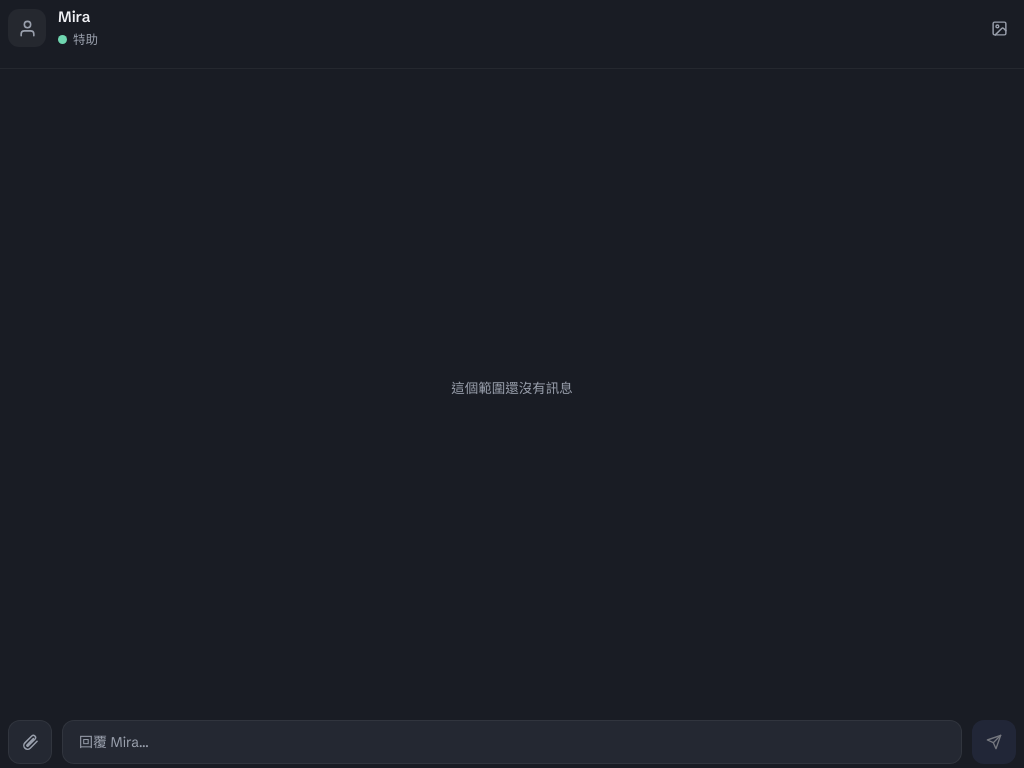
Test case: ChatArea gallery toggle (M2-3) › opens and closes the gallery panel from the header icon
This screenshot has width=1024, height=768.
Click the button with class "chat__gallery-toggle" at (999, 28), box 982,11 -> 1016,45
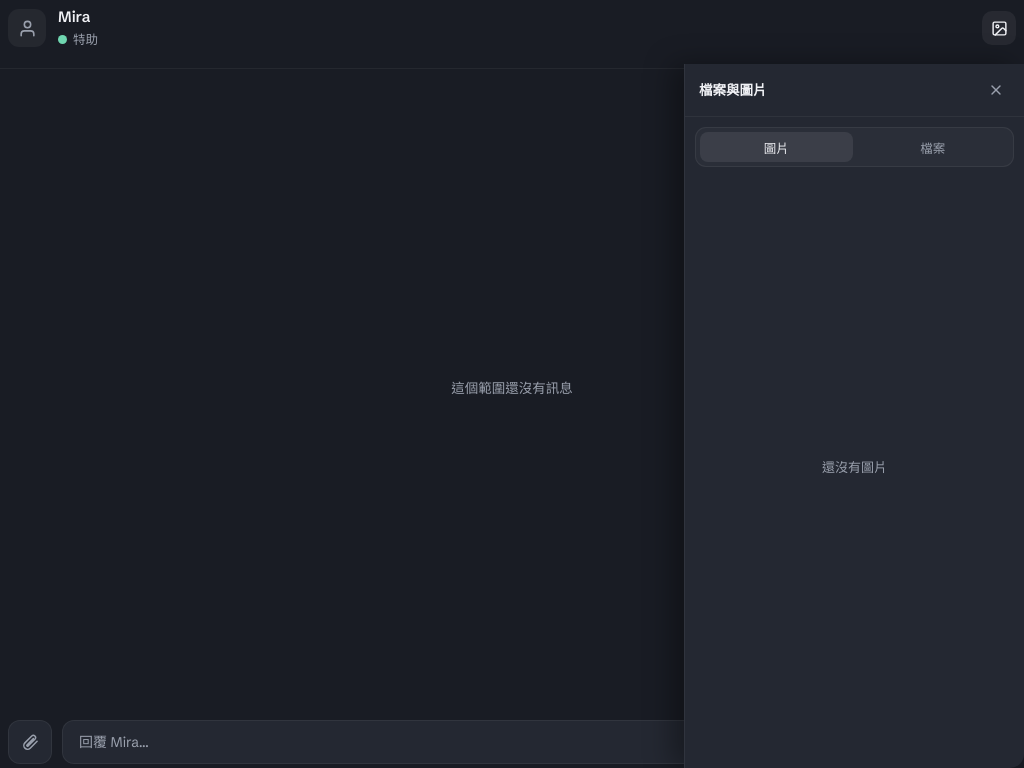
Expected: the dialog is shown, 684,64 -> 1023,767
Click the button with class "chat__gallery-toggle" at (999, 28), box 982,11 -> 1016,45
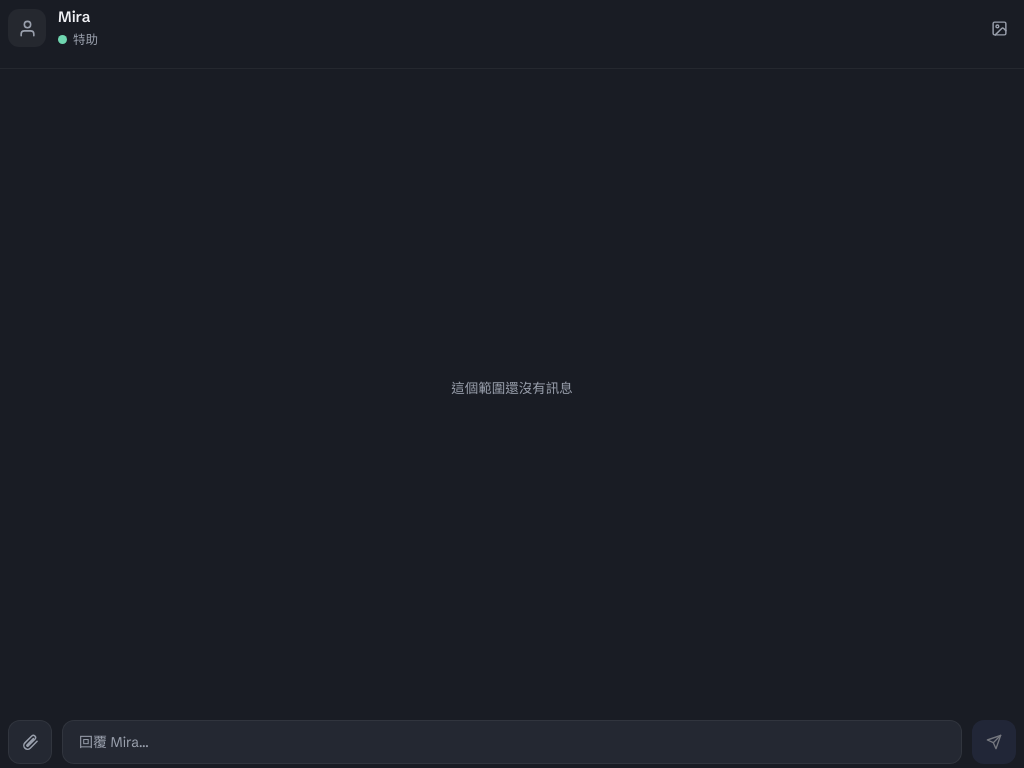
Expected: the dialog with class "chat__gallery" is gone
